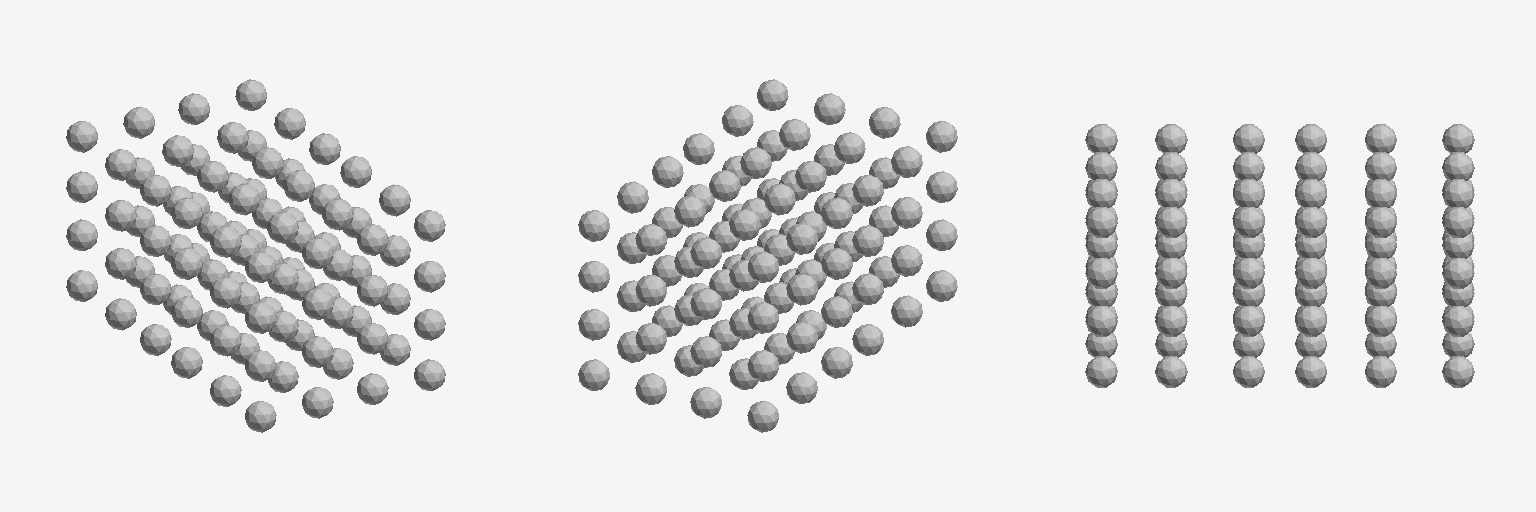
File: ultimateTest.obj
3 renders of one model, left to right at view 1: azimuth 30°, elevation 25°; view 2: azimuth 150°, elevation 25°; view 3: azimuth 270°, elevation 25°, orthographic.
Parts seen in each view (by area): view 1: Icosphere.079, Icosphere.028, Icosphere.002, Icosphere.003, Icosphere.092, Icosphere.093, Icosphere.005, Icosphere.054, Icosphere.073, Icosphere.082, Icosphere.090, Icosphere.026 (+28 smaller); view 2: Icosphere.076, Icosphere.073, Icosphere.002, Icosphere.003, Icosphere.092, Icosphere.093, Icosphere, Icosphere.059, Icosphere.079, Icosphere.095, Icosphere.027, Icosphere.065 (+28 smaller); view 3: Icosphere.019, Icosphere.018, Icosphere.023, Icosphere.020, Icosphere.021, Icosphere.022, Icosphere.092, Icosphere.093, Icosphere.044, Icosphere.045, Icosphere.094, Icosphere.066 (+28 smaller).
Boxes of the visible parts, <box> form: Icosphere.079: <box>267,212,298,243</box>; Icosphere.028: <box>105,248,136,279</box>; Icosphere.002: <box>171,347,202,378</box>; Icosphere.003: <box>140,324,171,355</box>; Icosphere.092: <box>340,156,371,187</box>; Icosphere.093: <box>309,133,340,164</box>; Icosphere.005: <box>66,270,97,301</box>; Icosphere.054: <box>302,288,333,319</box>; Icosphere.073: <box>210,226,241,257</box>; Icosphere.082: <box>162,135,193,166</box>; Icosphere.090: <box>414,210,445,241</box>; Icosphere.026: <box>171,296,202,327</box>; Icosphere.076: <box>786,223,817,254</box>; Icosphere.073: <box>891,146,922,177</box>; Icosphere.002: <box>852,324,883,355</box>; Icosphere.003: <box>821,347,852,378</box>; Icosphere.092: <box>683,133,714,164</box>; Icosphere.093: <box>652,156,683,187</box>; Icosphere: <box>926,270,957,301</box>; Icosphere.059: <box>690,288,721,319</box>; Icosphere.079: <box>834,132,865,163</box>; Icosphere.095: <box>578,210,609,241</box>; Icosphere.027: <box>821,296,852,327</box>; Icosphere.065: <box>635,274,666,306</box>; Icosphere.019: <box>1155,356,1187,387</box>; Icosphere.018: <box>1085,356,1117,387</box>; Icosphere.023: <box>1442,356,1474,387</box>; Icosphere.020: <box>1233,356,1264,387</box>; Icosphere.021: <box>1295,356,1326,387</box>; Icosphere.022: <box>1365,356,1396,387</box>; Icosphere.092: <box>1233,207,1264,237</box>; Icosphere.093: <box>1295,207,1326,237</box>; Icosphere.044: <box>1233,306,1264,336</box>; Icosphere.045: <box>1295,306,1326,336</box>; Icosphere.094: <box>1365,207,1396,237</box>; Icosphere.066: <box>1085,258,1117,288</box>.
Bounding box in the file's own units: 13.85 × 12.07 × 23.81.